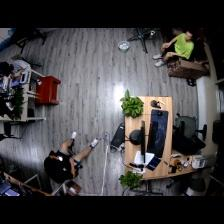normal: (43, 131, 100, 182), (154, 31, 192, 66), (1, 54, 26, 76)
